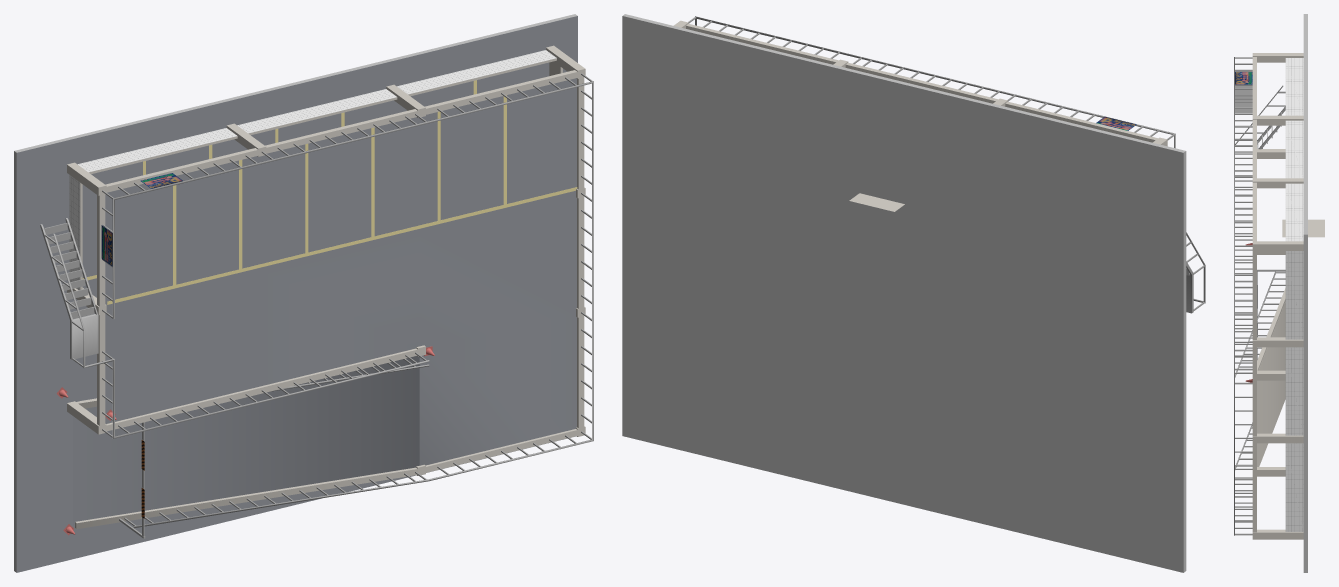
Rendered from parking.glb.
3 renders of one model, left to right at view 1: azimuth 30°, elevation 25°; view 2: azimuth 150°, elevation 25°; view 3: azimuth 270°, elevation 25°, orthographic. The views are drawn at different scales.
Visible parts, largest first — view 1: parking; view 2: parking; view 3: parking.
Part boxes in pixels (box(x1,y1,x2,y2)): parking: box(14, 14, 593, 572); parking: box(622, 14, 1205, 572); parking: box(1234, 14, 1324, 572).
Bounding box in the file's own units: 24.6 × 17.6 × 4.28.
10 materials, 3 textured.
